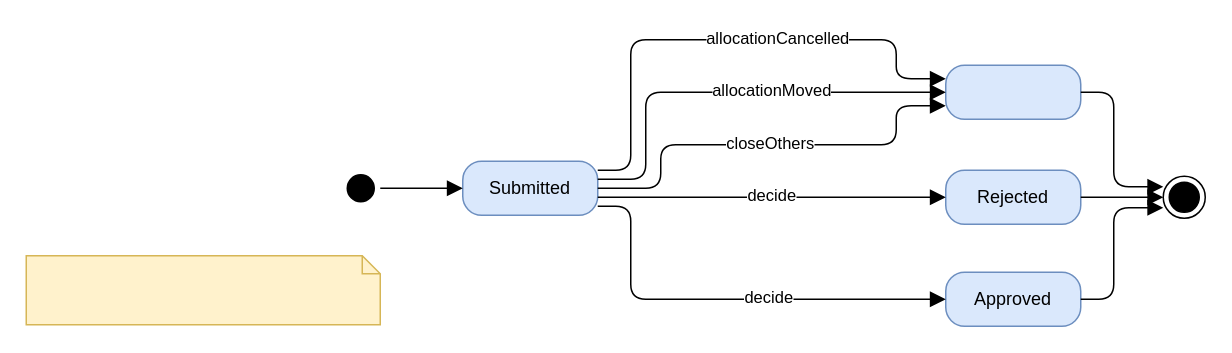
The diagram is 1232 pixels wide and 353 high, and some of its shapes have lost their labels. Here are the shapes that lost their labels. From the top down, the box of each, then its label:
(944, 64, 1081, 119): Cancelled
(25, 254, 380, 325): Allowed by the database, not set by the current code: Pending
